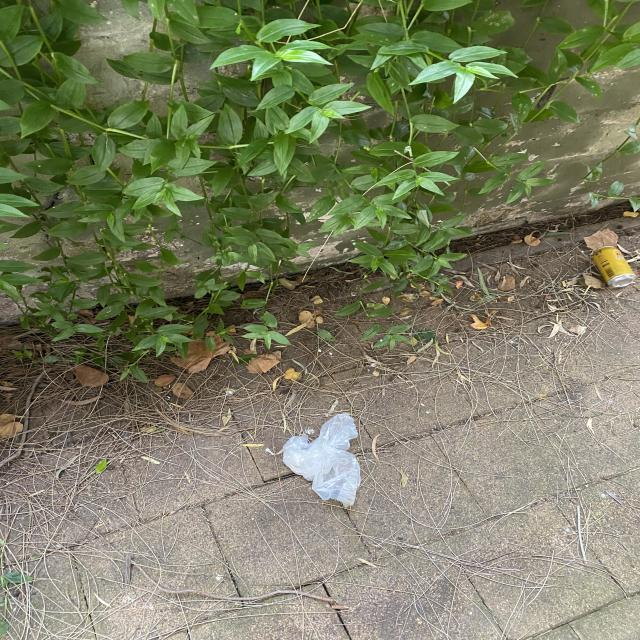bag: (283, 413, 362, 508)
can: (592, 246, 636, 288)
